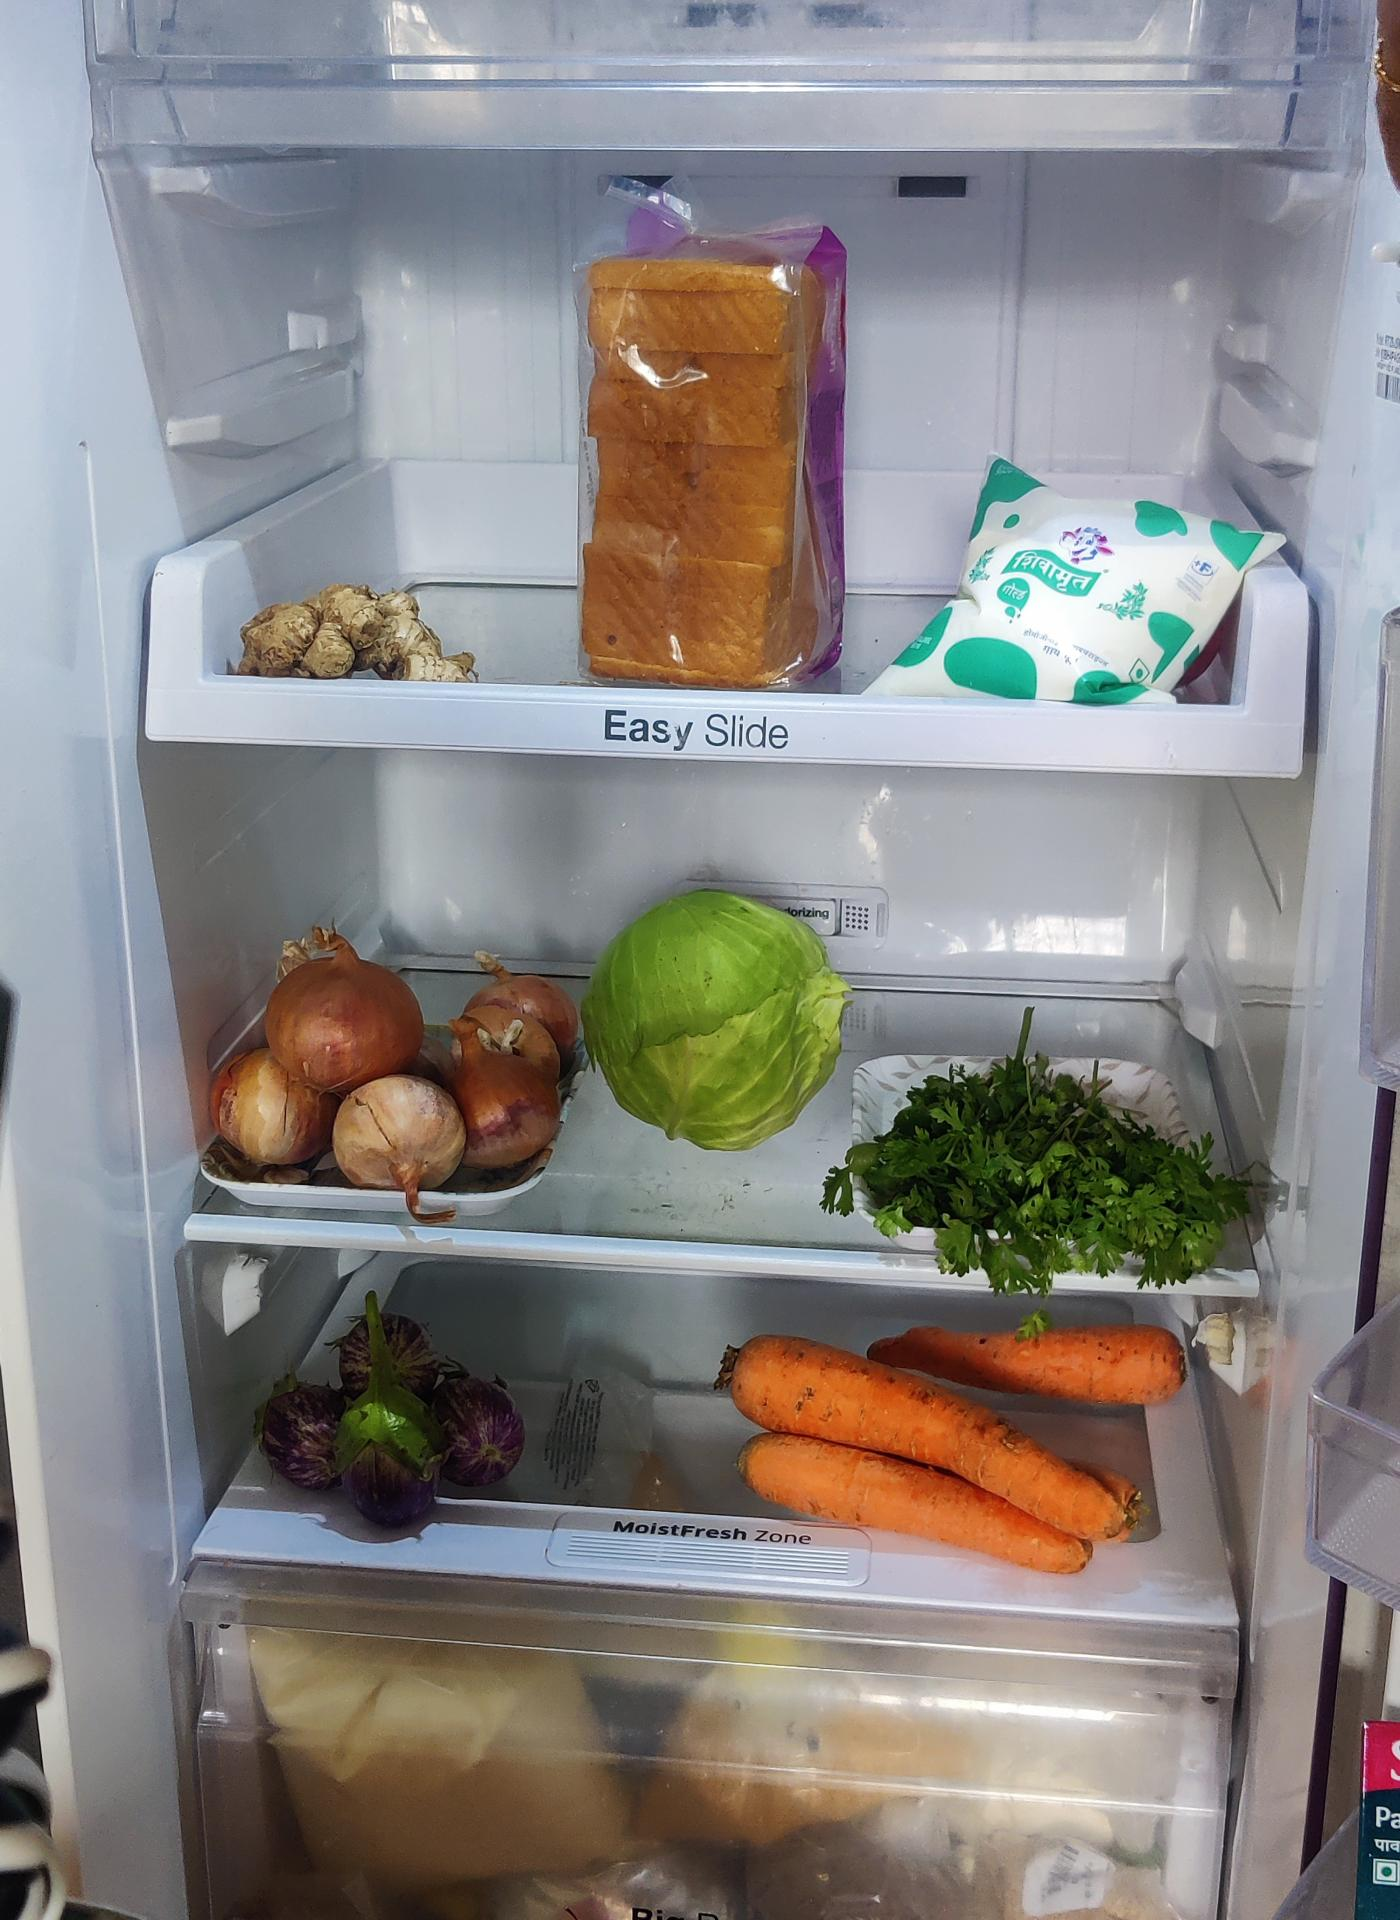bread: (568, 211, 852, 687)
brinjal: (275, 1307, 536, 1528)
cabbage: (590, 896, 856, 1152)
carrots: (723, 1332, 1179, 1577)
coriander: (839, 1066, 1256, 1294)
ginger: (234, 578, 480, 685)
milk: (878, 454, 1280, 708)
onion: (212, 919, 585, 1188)
